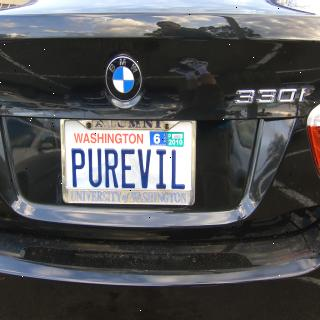license: (60, 123, 197, 206)
